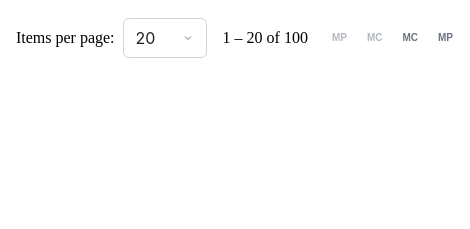
TnTablePagerComponent › test ids › exposes a stable test id on the 10 page-size option
The width and height of the screenshot is (470, 229).
Click the dropdown with class "tn-select-trigger": (164, 38) [122,18,206,58]
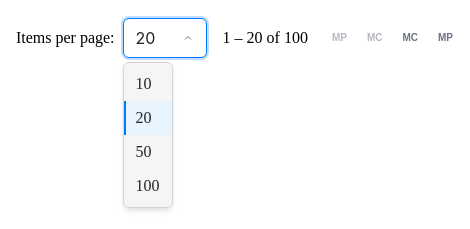
Expected: the option with test id "option-page-size-10" is shown, [136,75,152,92]
